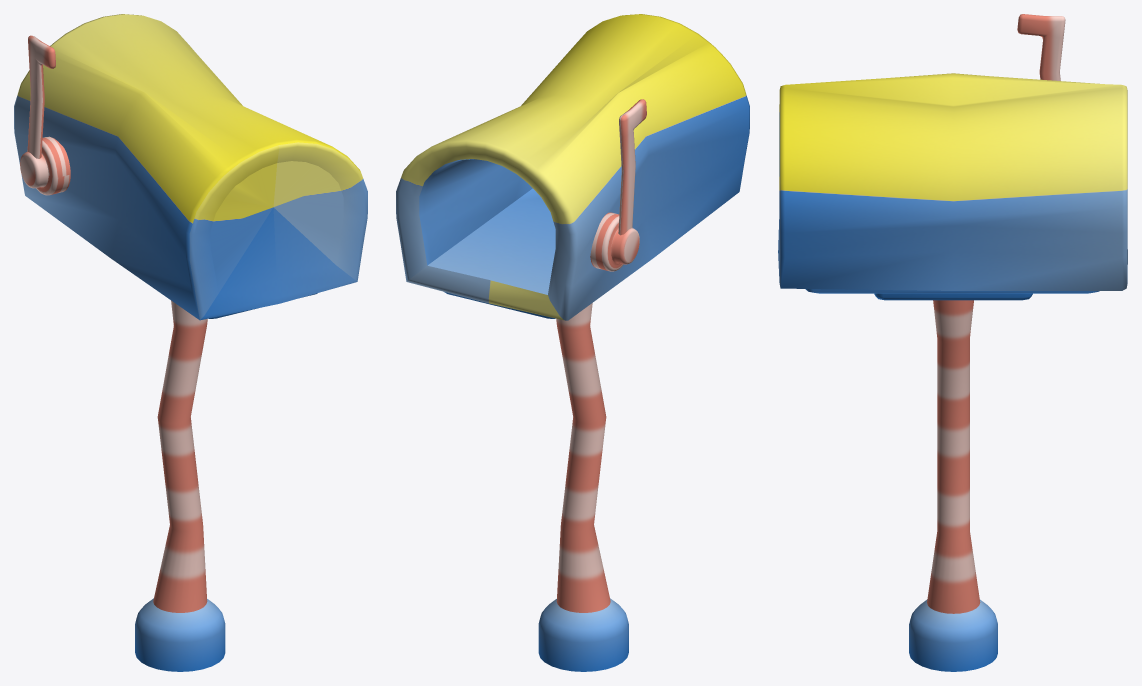
Rendered from MailboxA_purple.fbx.
3 views of the same model, side by side, from view 1: azimuth 30°, elevation 25°; view 2: azimuth 150°, elevation 25°; view 3: azimuth 270°, elevation 25° (orthographic).
Parts seen in each view (by area): view 1: MailboxA_box.003, MailboxA_stand.003, MailboxA_thingie.003; view 2: MailboxA_box.003, MailboxA_stand.003, MailboxA_thingie.003; view 3: MailboxA_box.003, MailboxA_stand.003, MailboxA_thingie.003.
Part boxes in pixels (<box>): MailboxA_box.003: <box>14,14,367,320</box>; MailboxA_stand.003: <box>135,300,225,671</box>; MailboxA_thingie.003: <box>20,35,70,195</box>; MailboxA_box.003: <box>396,14,749,320</box>; MailboxA_stand.003: <box>538,303,628,671</box>; MailboxA_thingie.003: <box>590,99,646,271</box>; MailboxA_box.003: <box>778,73,1127,300</box>; MailboxA_stand.003: <box>909,300,997,671</box>; MailboxA_thingie.003: <box>1017,14,1065,80</box>.
Bounding box in the file's own units: 107 × 307 × 164.
